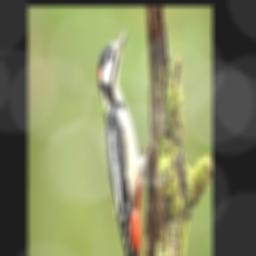Woodpecker: (98, 27, 159, 256)
